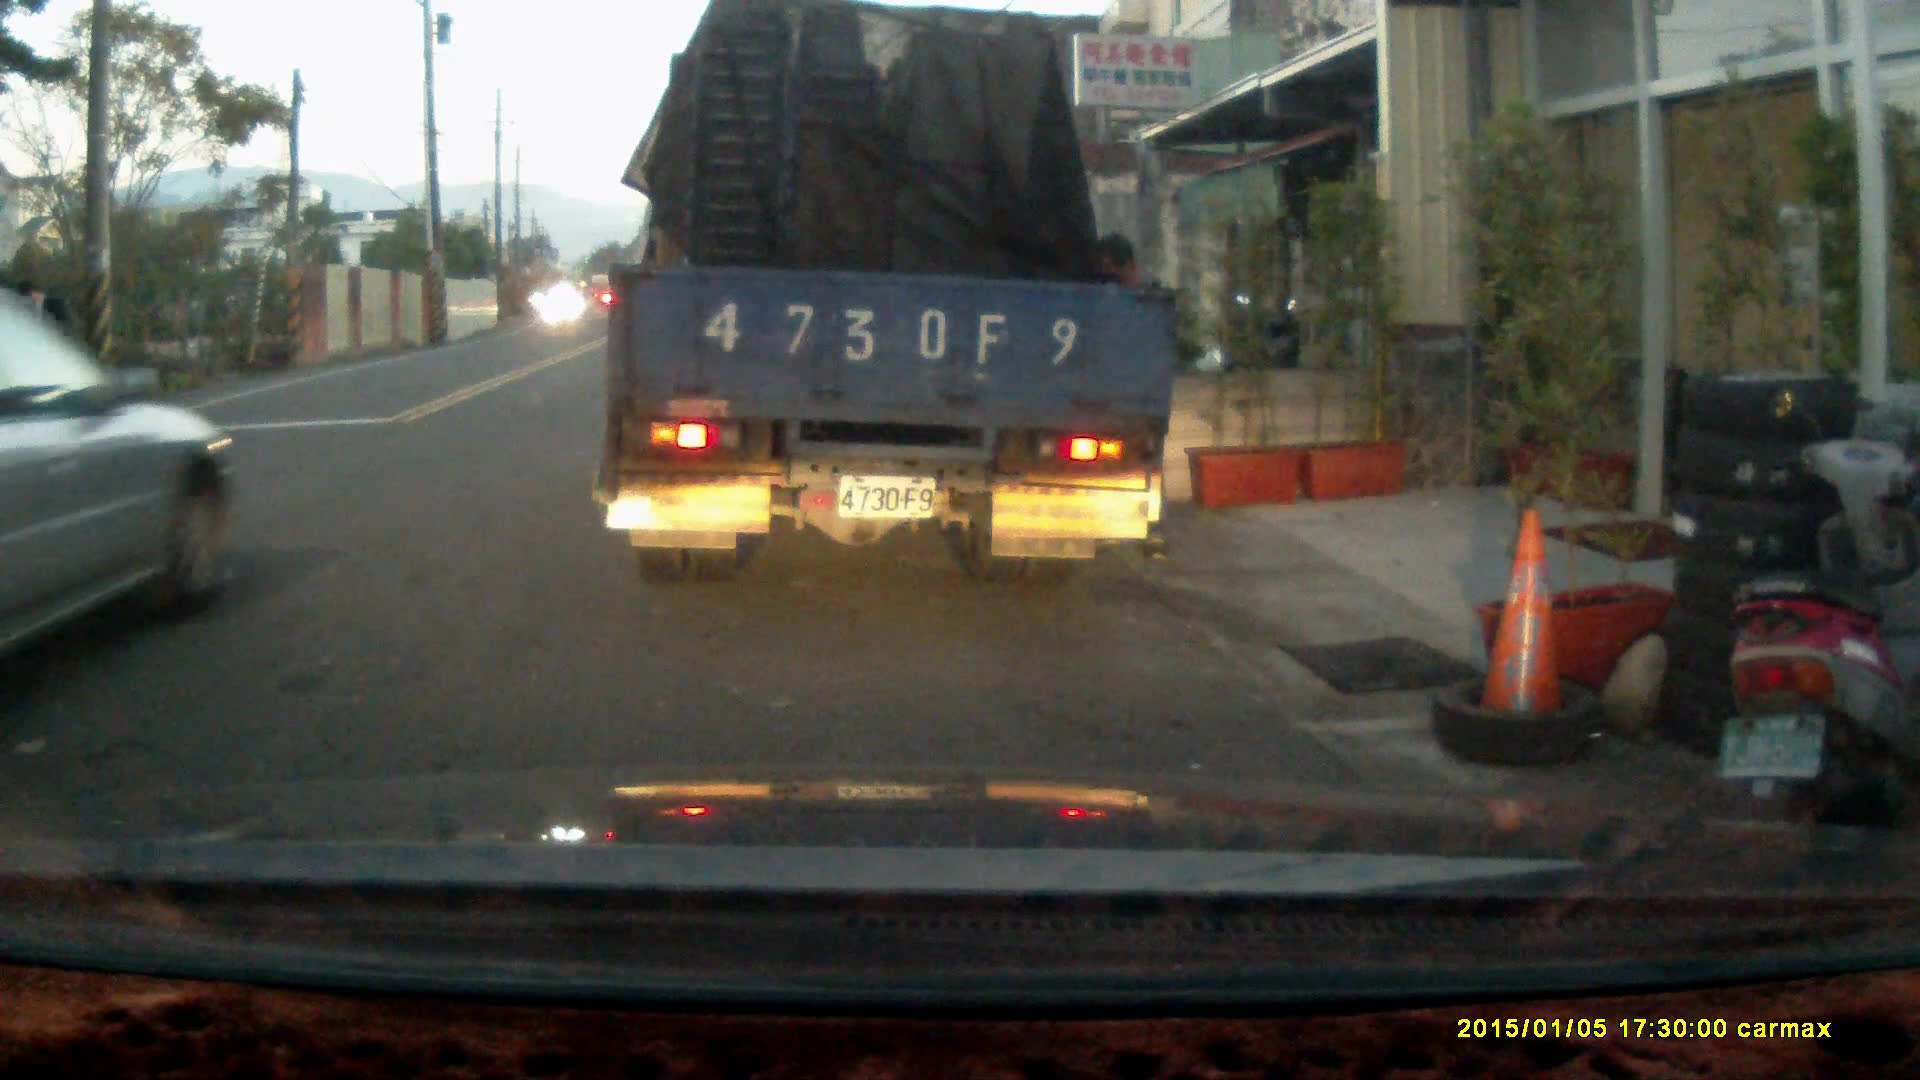vehicle: (605, 22, 1188, 572), (1, 297, 241, 686)
